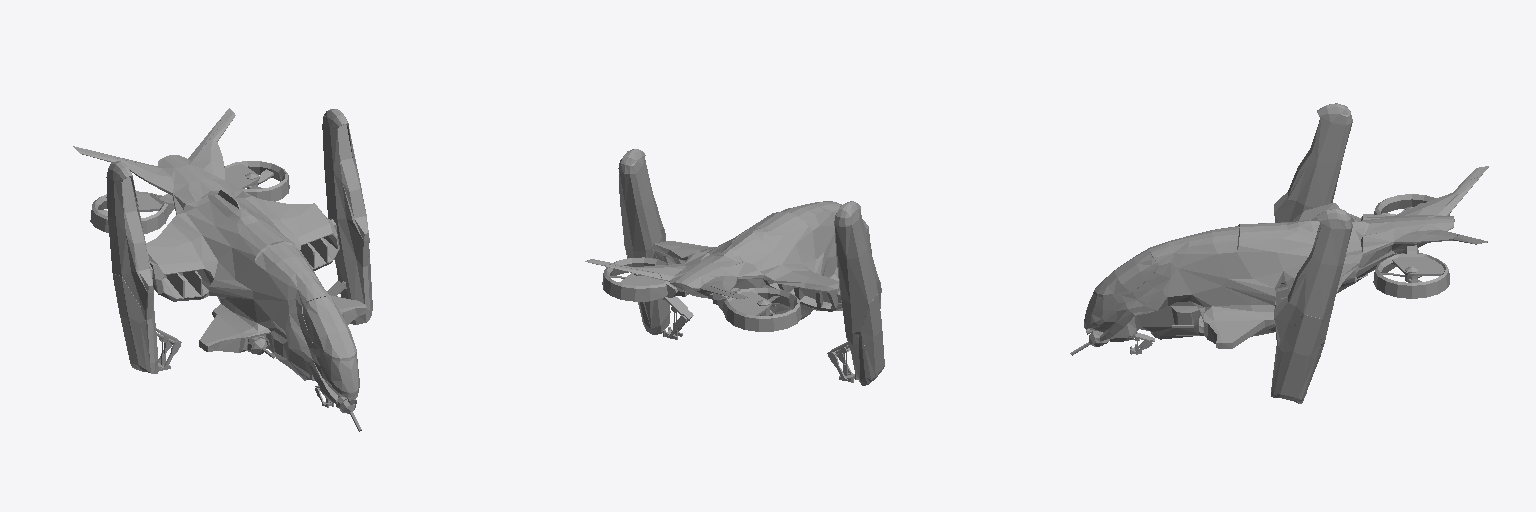
File: gunShip1.obj
3 renders of one model, left to right at view 1: azimuth 30°, elevation 25°; view 2: azimuth 150°, elevation 25°; view 3: azimuth 270°, elevation 25°, orthographic.
Visible parts, largest first — view 1: 32d76898_obj, 32e0e538_obj; view 2: 32d76898_obj; view 3: 32d76898_obj, 32e0e538_obj.
Part boxes in pixels (x1,y1,x2,y2): 32d76898_obj: (73, 108, 372, 431); 32e0e538_obj: (303, 296, 356, 360); 32d76898_obj: (585, 149, 884, 385); 32d76898_obj: (1070, 103, 1488, 403); 32e0e538_obj: (1093, 248, 1157, 297).
Bounding box in the file's own units: 21.47 × 16.71 × 31.86.